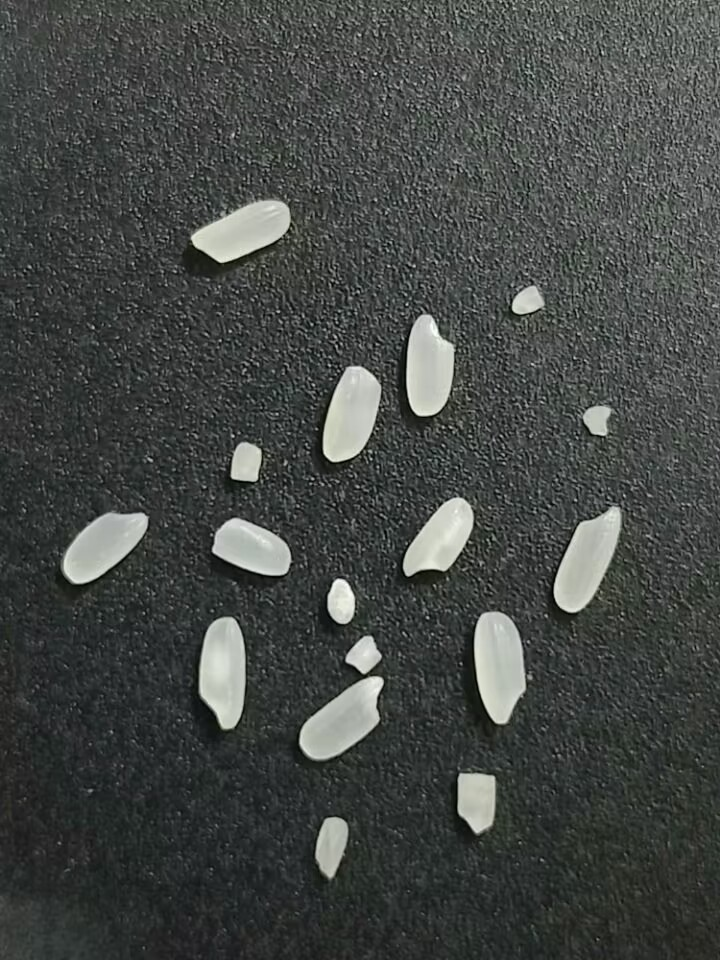broken: (210, 515, 293, 579), (453, 770, 500, 838), (225, 437, 268, 488), (314, 816, 348, 878), (504, 283, 551, 326), (323, 575, 361, 628), (342, 632, 388, 674), (578, 399, 618, 440)
rice: (58, 499, 150, 597), (551, 503, 629, 617), (296, 675, 390, 764), (468, 610, 534, 727), (401, 309, 457, 432), (400, 493, 480, 577), (191, 199, 294, 264), (320, 363, 384, 464), (197, 616, 246, 730)
